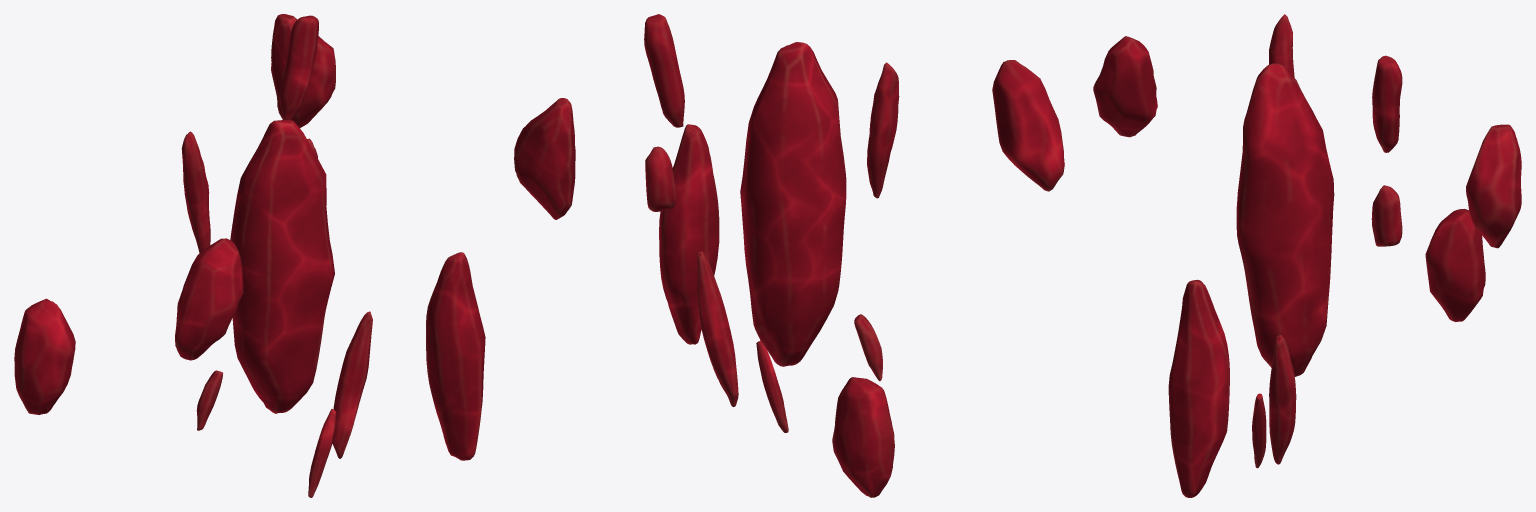
File: crystal.fbx
The picture shows the model from 3 angles, left to right: view 1: azimuth 30°, elevation 25°; view 2: azimuth 150°, elevation 25°; view 3: azimuth 270°, elevation 25°; orthographic projection. The views are drawn at different scales.
Visible parts, largest first — view 1: crystal, crystallow.002, crystallow.005, crystallow.006, crystallow.001, crystallow.003, crystallow.008, crystallow.010, crystallow.004, crystallow.009; view 2: crystal, crystallow.002, crystallow.005, crystallow.006, crystallow.001, crystallow.003, crystallow.008, crystallow.010, crystallow.007, crystallow.004, crystallow.009; view 3: crystal, crystallow.002, crystallow.001, crystallow.006, crystallow.005, crystallow.003, crystallow.008, crystallow.007, crystallow.010, crystallow.004.
Boxes of the visible parts, box(x1,y1,x2,y2) form: crystal: box(230, 119, 334, 413); crystallow.002: box(426, 252, 485, 460); crystallow.005: box(175, 238, 243, 360); crystallow.006: box(14, 298, 75, 414); crystallow.001: box(271, 14, 335, 127); crystallow.003: box(332, 311, 372, 458); crystallow.008: box(279, 15, 318, 119); crystallow.010: box(181, 131, 210, 252); crystallow.004: box(308, 409, 336, 497); crystallow.009: box(196, 370, 223, 430); crystal: box(740, 42, 846, 366); crystallow.002: box(659, 124, 719, 344); crystallow.005: box(992, 60, 1064, 191); crystallow.006: box(832, 377, 894, 497); crystallow.001: box(514, 98, 575, 219); crystallow.003: box(697, 251, 738, 406); crystallow.008: box(644, 14, 684, 127); crystallow.010: box(867, 62, 899, 198); crystallow.007: box(645, 146, 675, 211); crystallow.004: box(756, 340, 788, 432); crystallow.009: box(854, 314, 882, 381); crystal: box(1236, 63, 1334, 376); crystallow.002: box(1168, 279, 1229, 497); crystallow.001: box(1466, 124, 1521, 248); crystallow.006: box(1425, 209, 1485, 321); crystallow.005: box(1093, 36, 1157, 137); crystallow.003: box(1269, 335, 1296, 464); crystallow.008: box(1372, 55, 1402, 152); crystallow.007: box(1371, 185, 1402, 246); crystallow.010: box(1269, 14, 1294, 77); crystallow.004: box(1252, 393, 1266, 468).
Bounding box in the file's own units: 622 × 741 × 655.
